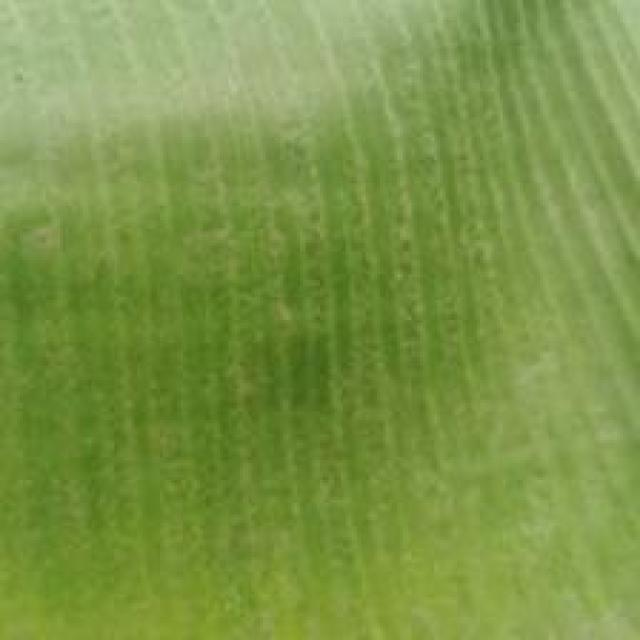Black_leaf_spot: (20, 0, 640, 607)
